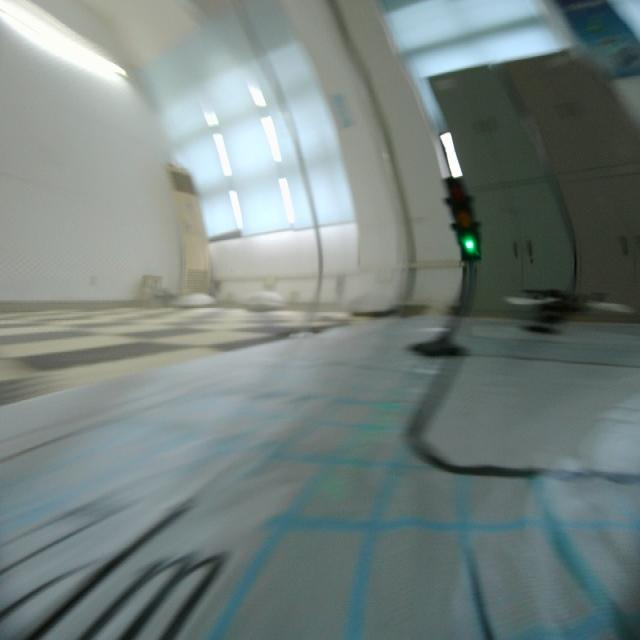green: (442, 171, 490, 267)
